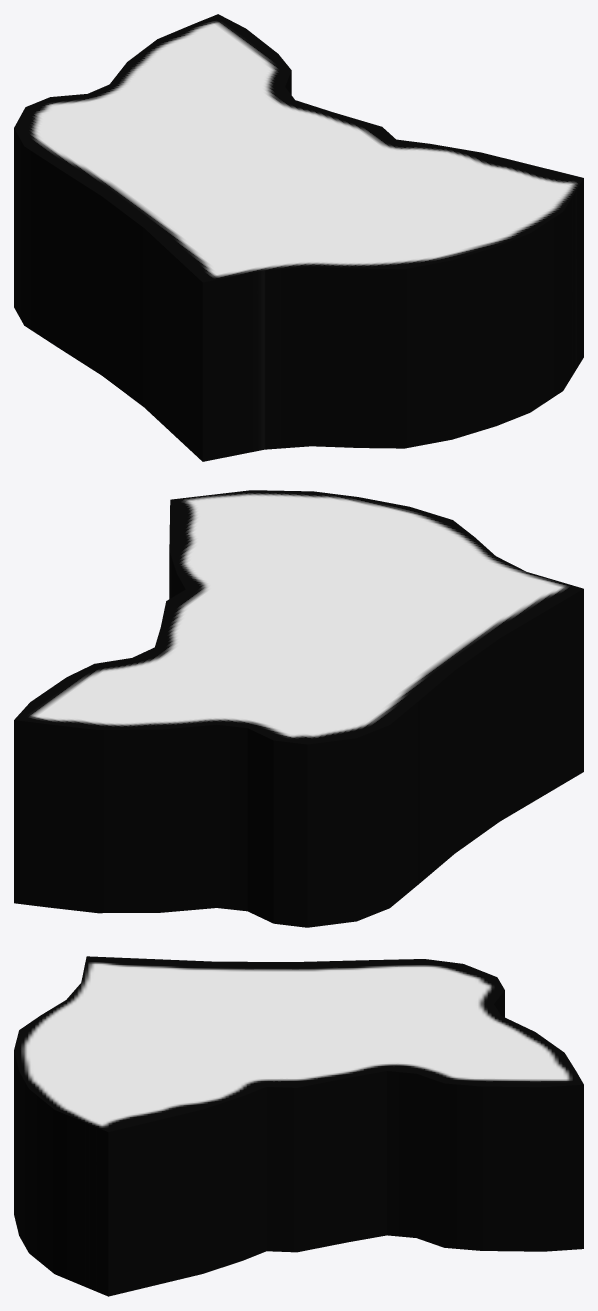
3 views of the same model, one above another, from view 1: azimuth 30°, elevation 25°; view 2: azimuth 150°, elevation 25°; view 3: azimuth 270°, elevation 25° (orthographic). The views are drawn at different scales.
Parts seen in each view (by area): view 1: polySurface52; view 2: polySurface52; view 3: polySurface52.
Boxes of the visible parts, x1=… form: polySurface52: x1=14, y1=14, x2=583, y2=461; polySurface52: x1=14, y1=490, x2=583, y2=927; polySurface52: x1=14, y1=956, x2=583, y2=1296.
Bounding box in the file's own units: 1.15 × 0.5 × 1.57.
